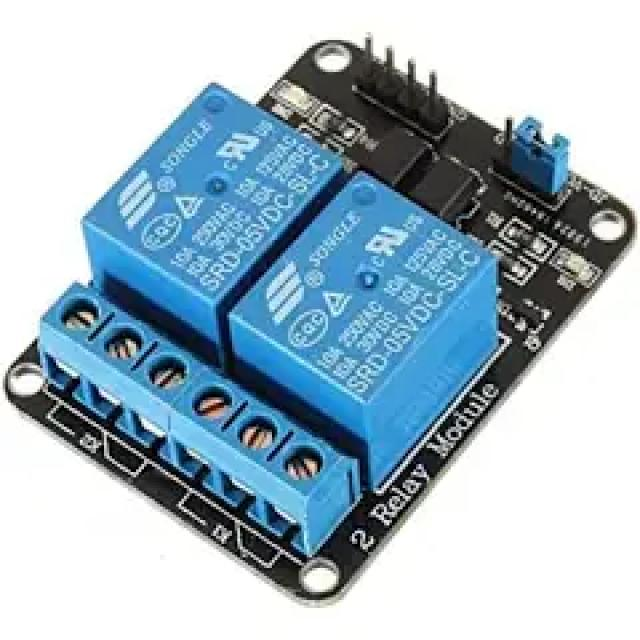Relay: (222, 174, 497, 485), (38, 284, 351, 551), (81, 86, 347, 357), (47, 289, 115, 363)
